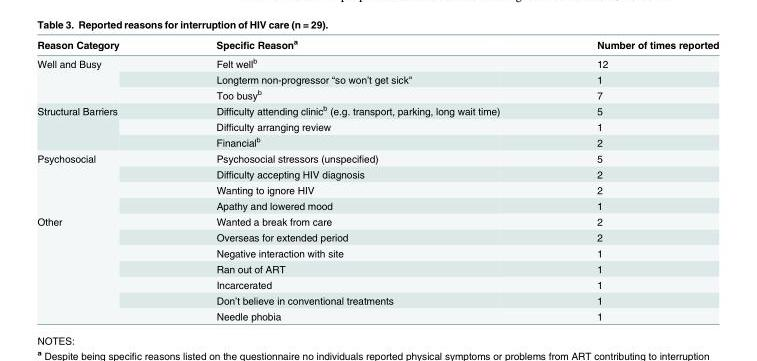table: (36, 37, 718, 321)
table column: (167, 37, 547, 321), (547, 37, 718, 321), (36, 37, 167, 321)
table column header: (36, 37, 718, 53)
table row: (36, 53, 718, 71), (36, 133, 718, 150), (36, 37, 718, 53), (36, 86, 718, 102), (36, 102, 718, 118), (36, 165, 718, 181), (36, 181, 718, 197), (36, 197, 718, 213), (36, 213, 718, 229), (36, 244, 718, 260), (36, 260, 718, 276), (36, 276, 718, 292), (36, 292, 718, 308), (36, 71, 718, 86), (36, 118, 718, 133), (36, 150, 718, 165), (36, 229, 718, 244), (36, 308, 718, 321)
table spanning cell: (36, 213, 167, 321), (36, 150, 167, 213), (36, 53, 167, 102), (36, 102, 167, 150)
